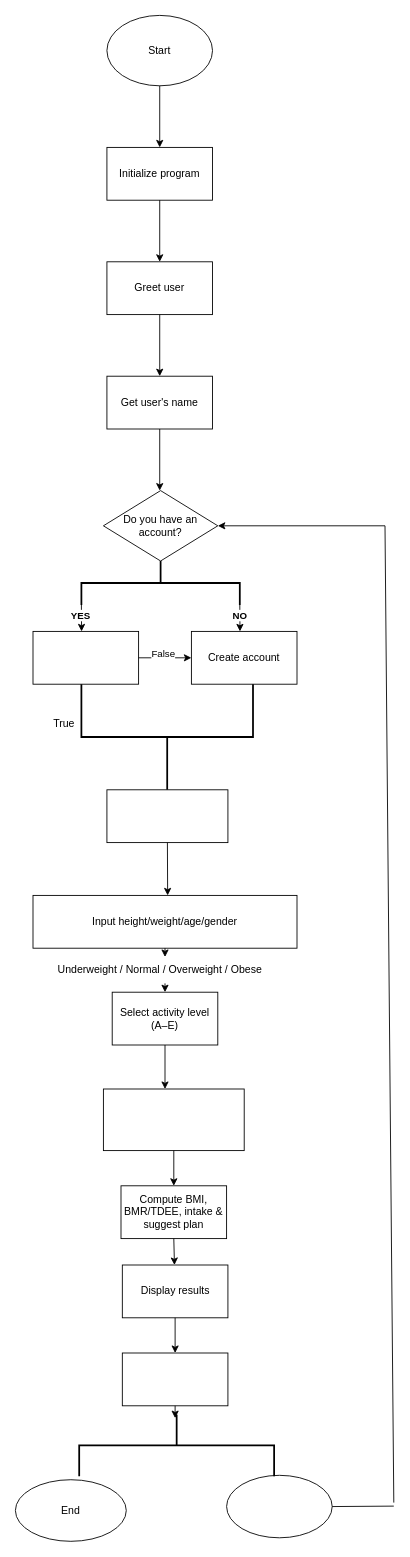
This 410x1557 diagram has some shape labels left out. The centre of each missing label's shape, as x and y in pixels:
"Give feedback" goes at (174,1379).
"Input servings for foods (A–G)" goes at (173,1119).
"Login" goes at (85,657).
"Logout" goes at (279,1506).
"Welcome and Continue" goes at (167,816).
